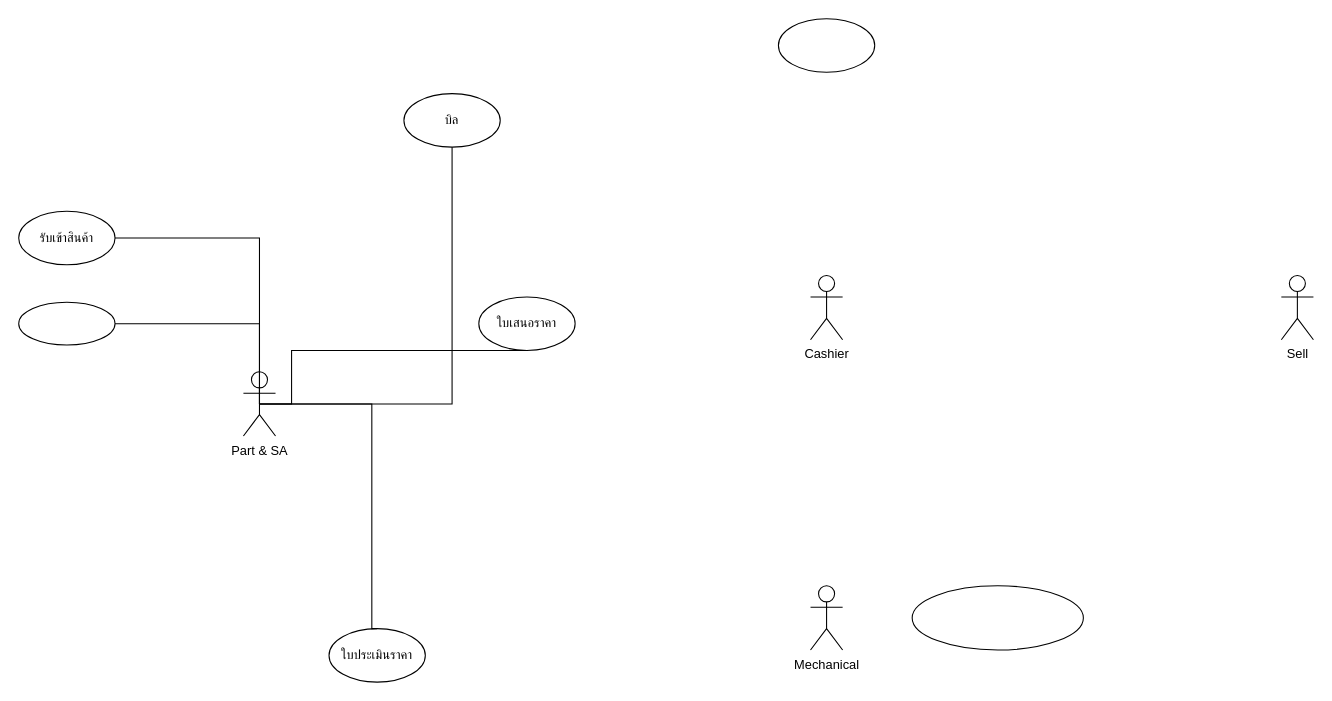
Image size: 1332x701. Some labels were removed from this diagram. The centre of each missing label's shape, as x and y in pixels:
"การรับชำระ" goes at [826,45].
"ดูข้อมูลและรายการในบิล" goes at [997,617].
"สั่งสินค้า" goes at [66,323].
